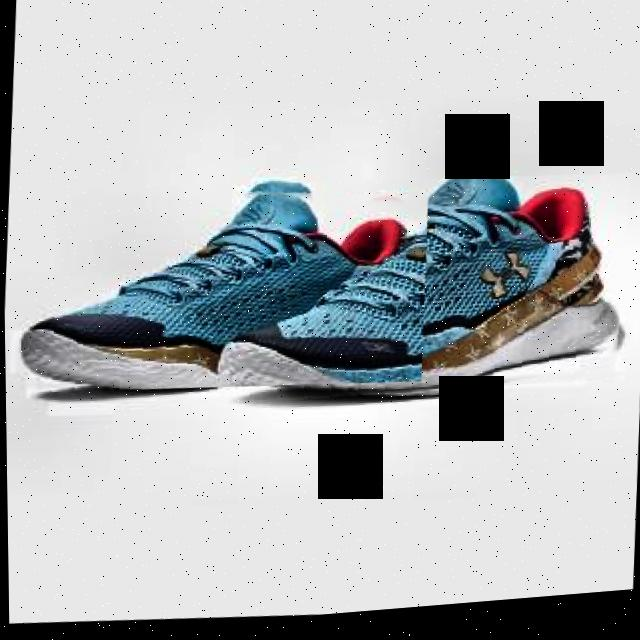shoe: (213, 162, 633, 430), (14, 163, 431, 414)
